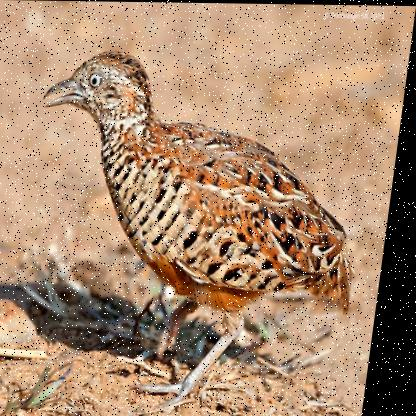Burung: (12, 50, 385, 416)
